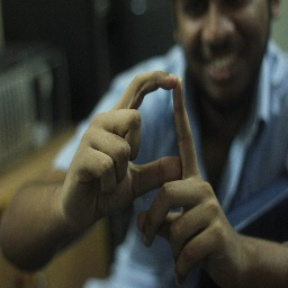D: (96, 68, 219, 213)
